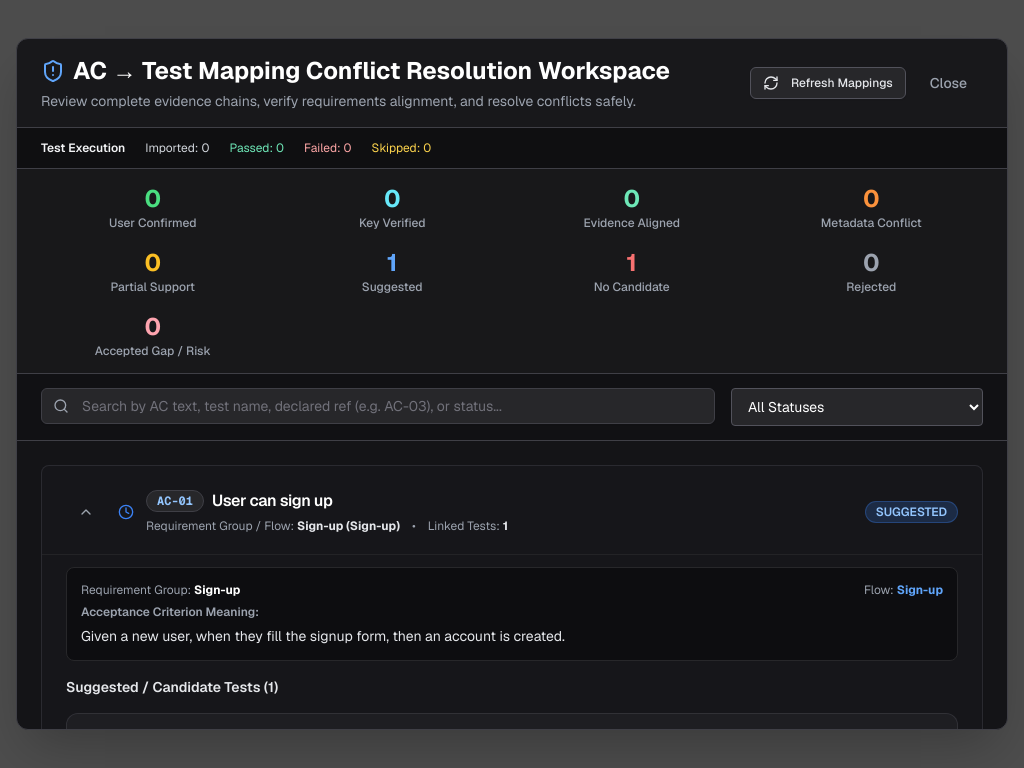
Test: MappingReviewPanel › search filter works for AC title, test name, and display_ac_ref
Expected: the text "AC-01" is shown, [146, 490, 204, 512]
// Search by test name
Replace the text in the field with placeholder "Search by AC text" with "test_login_shows_dashboard" at x=378, y=406, box [41, 388, 715, 424]
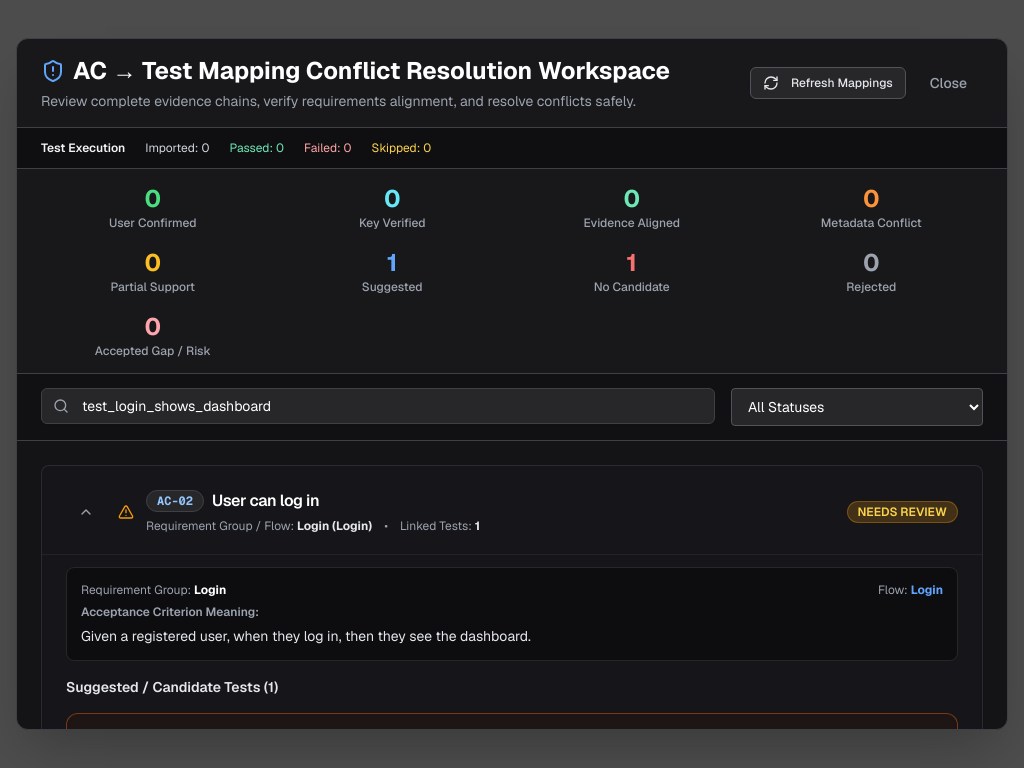
Expected: the text "AC-01" is gone
Expected: the text "AC-02" is shown, [146, 490, 204, 512]
// Search by display ref
Replace the text in the field with placeholder "Search by AC text" with "AC-01" at x=378, y=406, box [41, 388, 715, 424]
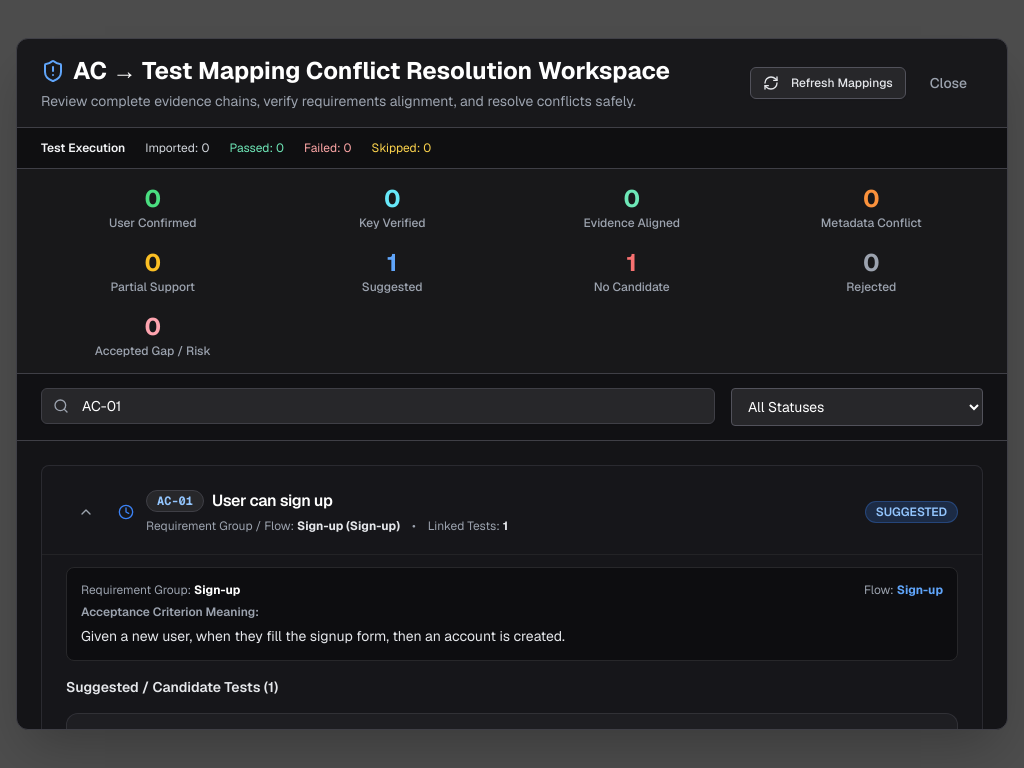
Expected: the text "AC-01" is shown, [146, 490, 204, 512]
Expected: the text "AC-02" is gone
